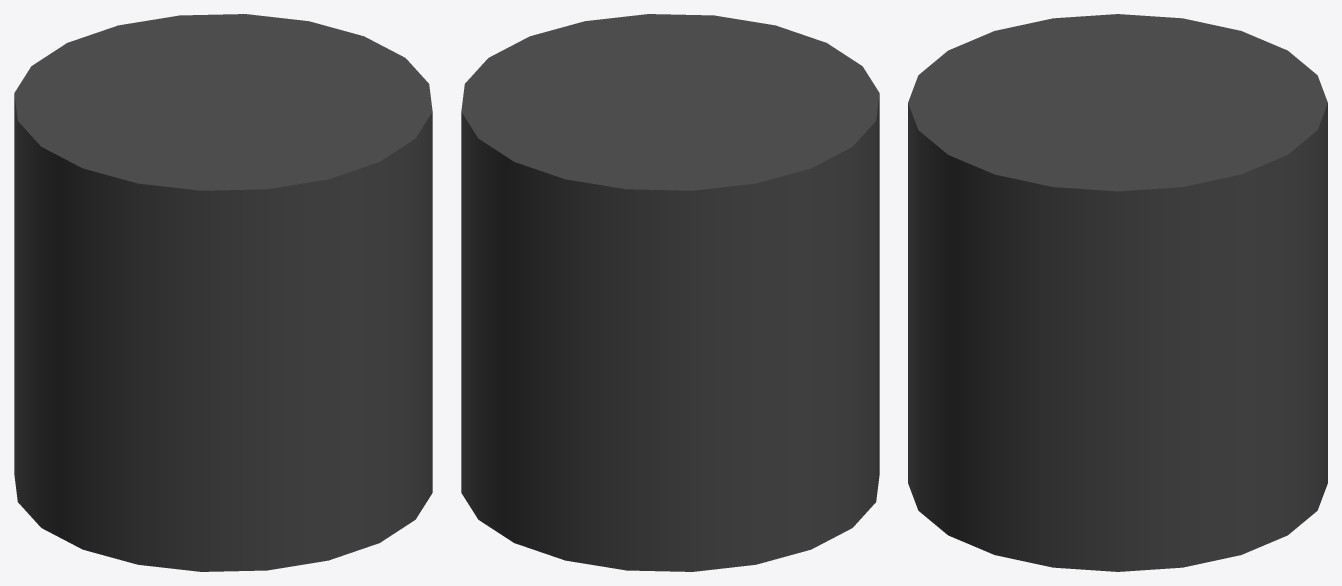
File: TexturedWashingMachinePipe.fbx
3 renders of one model, left to right at view 1: azimuth 30°, elevation 25°; view 2: azimuth 150°, elevation 25°; view 3: azimuth 270°, elevation 25°, orthographic.
Parts seen in each view (by area): view 1: pCylinder1; view 2: pCylinder1; view 3: pCylinder1.
Part boxes in pixels (x1,y1,x2,y2): pCylinder1: (14, 14, 432, 571); pCylinder1: (461, 14, 879, 571); pCylinder1: (908, 14, 1327, 571).
Size of the model in its own units: 2 by 2 by 2.
Materials: 1 (1 with a texture image).
